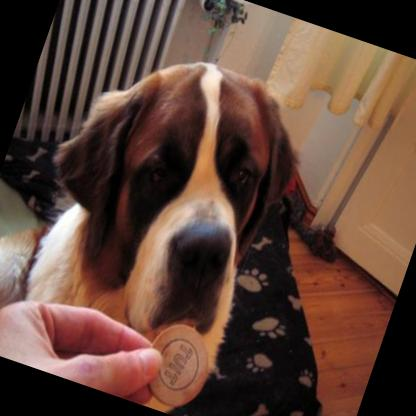Saint_Bernard: (0, 9, 354, 416)
